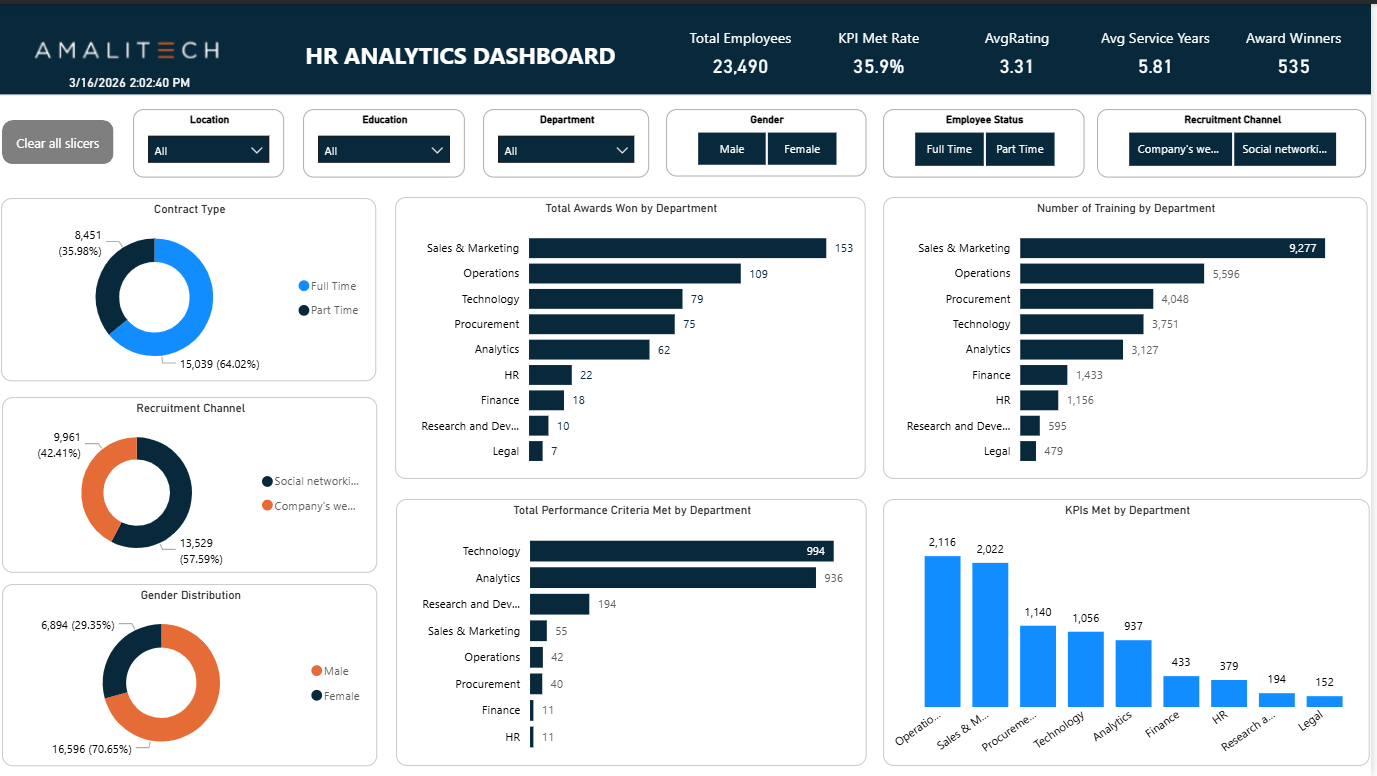

The page's visual inventory and layout, read from the dashboard file:
{"tool":"powerbi","page":{"name":"Overview","canvas":[1280,720],"ordinal":0},"visuals":[{"type":"textbox","box":[318.3,20.4,312.9,47.6],"z":0},{"type":"slicer","fields":{"Values":["Altera_Emp_Data.Gender"]},"box":[593.1,97.9,216.3,88.4],"z":1000},{"type":"slicer","fields":{"Values":["Altera_Emp_Data.Education"]},"box":[194.5,99.3,155.1,88.4],"z":2000},{"type":"slicer","fields":{"Values":["Altera_Emp_Data.Department"]},"box":[372.7,99.3,204,87.1],"z":3000},{"type":"slicer","fields":{"Values":["Altera_Emp_Data.Location"]},"box":[0,99.3,166,88.4],"z":4000},{"type":"donutChart","title":"Gender Distribution","fields":{"Category":["Altera_Emp_Data.Gender"],"Y":["CountNonNull(Altera_Emp_Data.Age)"]},"box":[0,549.9,350.2,160],"z":5000},{"type":"barChart","title":"Awards Won by Department","fields":{"Y":["Sum(Altera_Emp_Data.Awards_Won)"],"Category":["Altera_Emp_Data.Department"]},"box":[372.7,198.6,436.6,250.3],"z":6000},{"type":"barChart","title":"Training by Department","fields":{"Category":["Altera_Emp_Data.Department"],"Y":["Sum(Altera_Emp_Data.Number_of_Trainings)"]},"box":[825.7,198.6,450.2,250.3],"z":7000},{"type":"donutChart","title":"Contract Type","fields":{"Y":["CountNonNull(Altera_Emp_Data.Age)"],"Series":["Altera_Emp_Data.FT/PT"]},"box":[0,198.5,350.2,160],"z":8000},{"type":"card","title":"Total Awards Won","fields":{"Values":["Altera_Emp_Data.current_date"]},"box":[27.3,63.4,188.9,24],"z":9000},{"type":"slicer","fields":{"Values":["Altera_Emp_Data.FT/PT"]},"box":[825.7,99.3,195.9,89.8],"z":10000},{"type":"columnChart","title":"KPIs Met  by Department","fields":{"Y":["Sum(Altera_Emp_Data.KPIs_met >80%)"],"Category":["Altera_Emp_Data.Department"]},"box":[825.7,469.3,454.3,240.8],"z":11000},{"type":"areaChart","title":"Age distributions","fields":{"Category":["Altera_Emp_Data.Age"],"Y":["CountNonNull(Altera_Emp_Data.EmpID)"]},"box":[372.7,469.3,439.4,240.8],"z":12000},{"type":"cardVisual","fields":{"Data":["MeasureTable.TotalEmployees","MeasureTable.KPIMetRate","MeasureTable.AvgRating","MeasureTable.AvgServiceYears","MeasureTable.AwardWinners"]},"box":[640.7,0,639.3,84.3],"z":13000},{"type":"slicer","fields":{"Values":["Altera_Emp_Data.Recruitment_Channell"]},"box":[1042,99.3,225.8,89.8],"z":14000},{"type":"donutChart","title":"Recruitment Channel","fields":{"Y":["CountNonNull(Altera_Emp_Data.Recruitment_Channell)"],"Category":["Altera_Emp_Data.Recruitment_Channell"]},"box":[0,374.2,350.2,160],"z":15000}]}

Visuals, with their boxes in screenshot pixels (x1, y1, x2, y2), scaled from the page's 1280x720 canvas onto the 1377x776 screenshot:
textbox: [342, 22, 679, 73]
slicer - Altera_Emp_Data.Gender: [638, 106, 871, 201]
slicer - Altera_Emp_Data.Education: [209, 107, 376, 202]
slicer - Altera_Emp_Data.Department: [401, 107, 620, 201]
slicer - Altera_Emp_Data.Location: [0, 107, 179, 202]
"Gender Distribution" donutChart: [0, 593, 377, 765]
"Awards Won by Department" barChart: [401, 214, 871, 484]
"Training by Department" barChart: [888, 214, 1373, 484]
"Contract Type" donutChart: [0, 214, 377, 386]
"Total Awards Won" card: [29, 68, 233, 94]
slicer - Altera_Emp_Data.FT/PT: [888, 107, 1099, 204]
"KPIs Met  by Department" columnChart: [888, 506, 1376, 765]
"Age distributions" areaChart: [401, 506, 874, 765]
cardVisual - MeasureTable.TotalEmployees x MeasureTable.KPIMetRate: [689, 0, 1376, 91]
slicer - Altera_Emp_Data.Recruitment_Channell: [1121, 107, 1364, 204]
"Recruitment Channel" donutChart: [0, 403, 377, 576]
